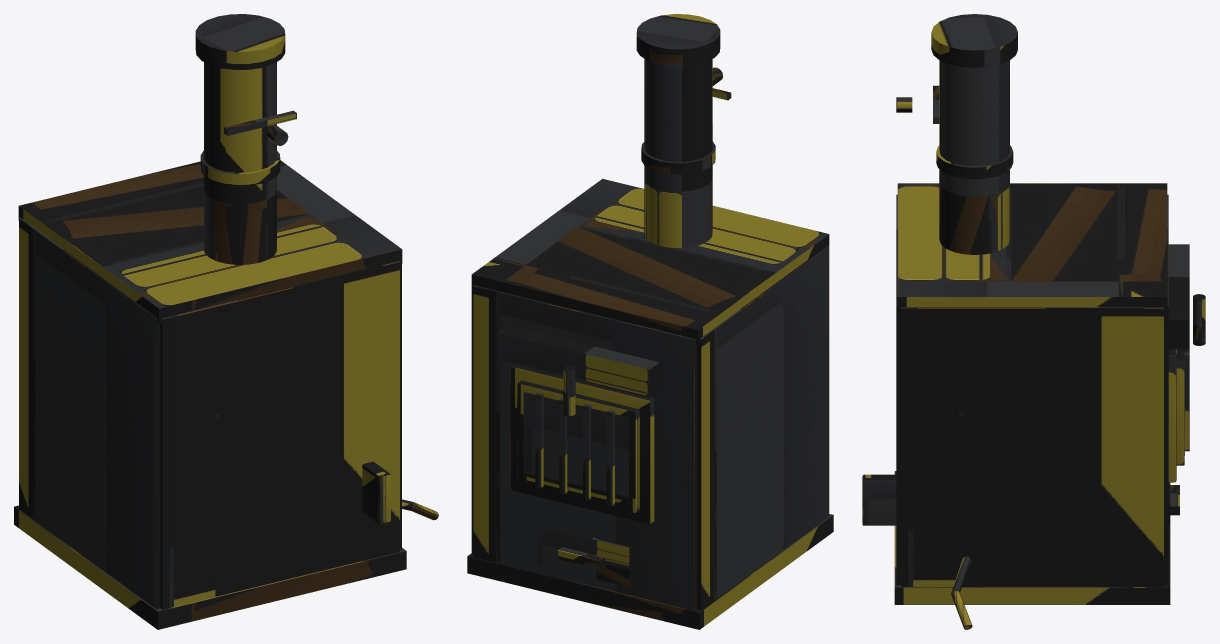
The model's file is DD_furnace.glb.
The picture shows the model from 3 angles, left to right: view 1: azimuth 30°, elevation 25°; view 2: azimuth 150°, elevation 25°; view 3: azimuth 270°, elevation 25°; orthographic projection. The views are drawn at different scales.
Parts seen in each view (by area): view 1: DD_furnace; view 2: DD_furnace; view 3: DD_furnace.
Boxes of the visible parts, bbox=[...] form: DD_furnace: bbox=[14, 14, 438, 629]; DD_furnace: bbox=[467, 14, 833, 629]; DD_furnace: bbox=[862, 14, 1205, 629].
Size of the model in its own units: 1.1 by 1.77 by 1.07.
Materials: 1 (1 with a texture image).
